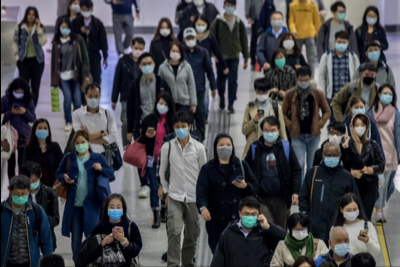with_mask: (330, 237, 348, 256), (239, 209, 257, 228), (104, 202, 121, 221), (321, 151, 339, 168), (340, 205, 358, 221), (8, 190, 28, 204), (289, 225, 307, 240), (215, 141, 230, 159), (72, 138, 87, 154), (172, 123, 186, 140), (84, 92, 98, 109), (260, 127, 276, 141), (139, 59, 153, 75), (360, 71, 375, 85), (378, 89, 392, 104), (153, 100, 167, 115), (33, 124, 47, 139), (24, 175, 37, 191), (327, 130, 340, 145), (352, 121, 364, 137), (366, 47, 379, 61), (281, 36, 293, 50), (350, 104, 364, 116), (9, 88, 24, 99), (334, 39, 347, 51), (296, 76, 309, 88), (254, 89, 266, 102), (129, 45, 142, 57), (270, 15, 280, 30), (272, 55, 284, 67), (183, 36, 195, 48), (168, 48, 180, 60), (222, 2, 233, 14), (158, 24, 169, 36), (57, 26, 70, 36), (365, 12, 375, 24), (78, 7, 90, 17), (69, 1, 78, 13), (335, 9, 345, 19), (193, 22, 204, 31)
without_mask: (24, 10, 34, 23)
